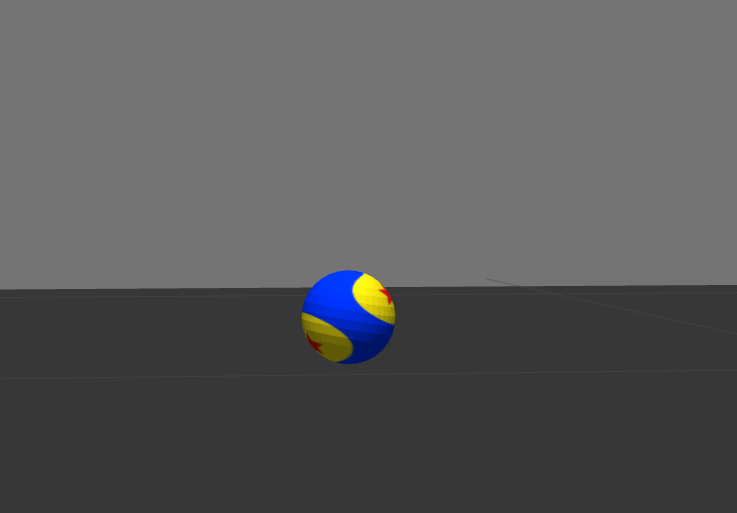toy_story_ball: (301, 270, 396, 365)
